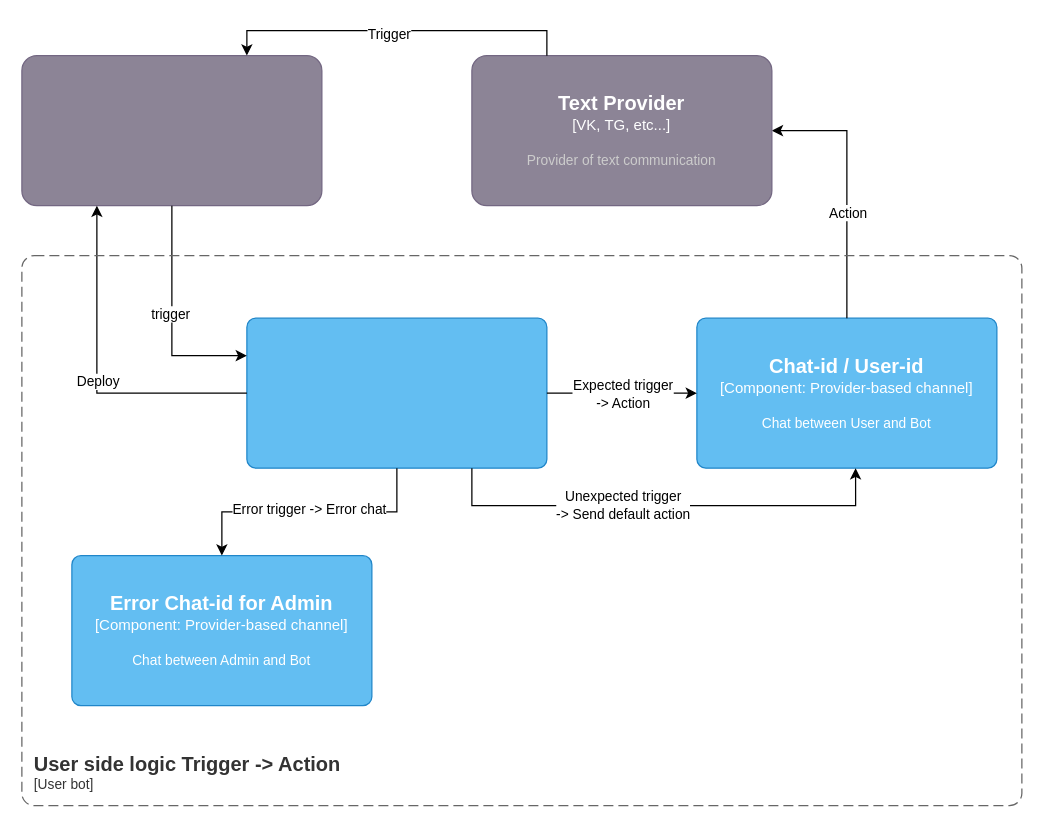
The diagram is 1044 pixels wide and 828 high, and some of its shapes have lost their labels. Here are the shapes that lost their labels. From the top down, the box of each, then its label:
(21, 54, 322, 206): Yandex Cloud Functions [Serverless system] Serverless solution for simple bots
(246, 317, 547, 468): Bot as Function [Component: Serverless] Business logic
